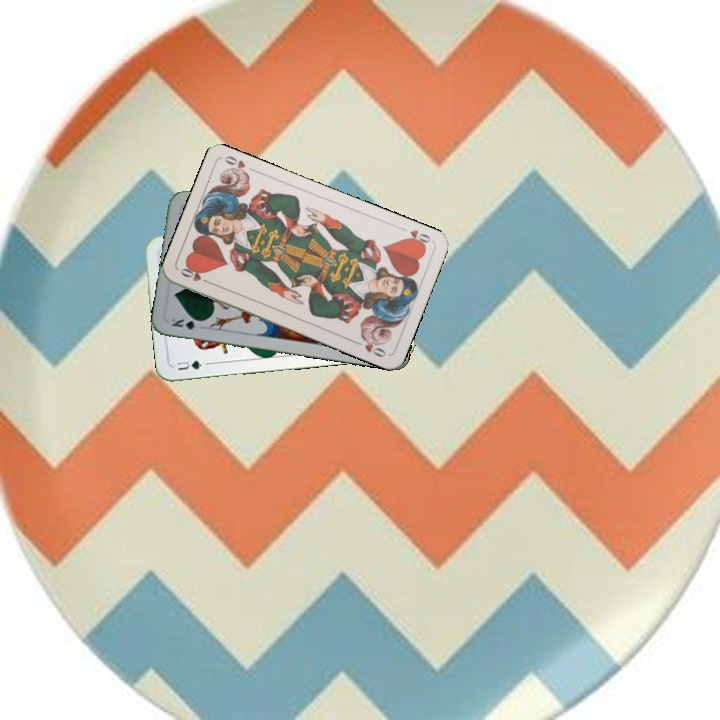GK: (167, 313, 207, 333)
GU: (171, 356, 205, 373)
HO: (176, 264, 214, 287), (400, 225, 434, 250)
